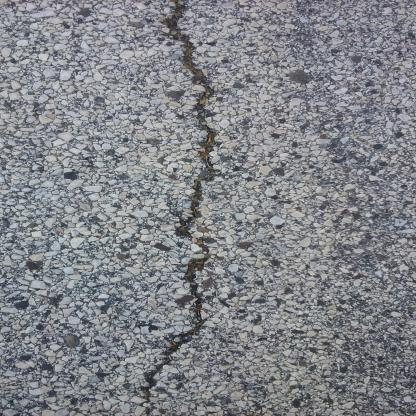Cracks: (132, 0, 235, 415)
